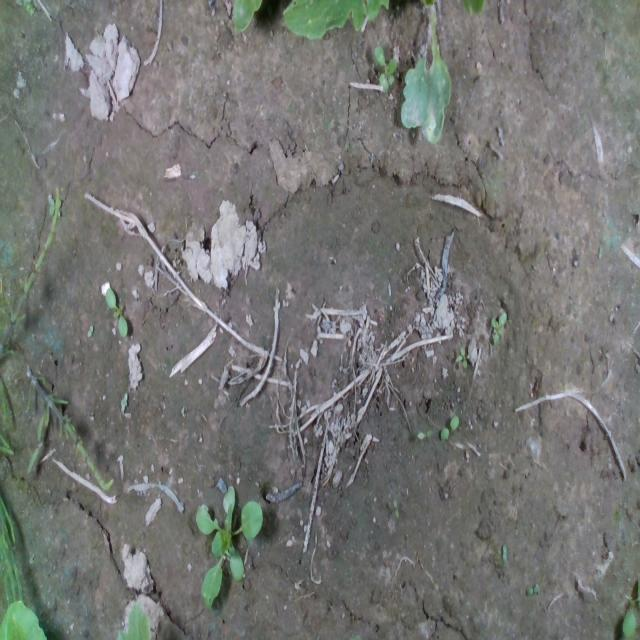weed: (104, 286, 128, 339), (372, 45, 396, 95), (439, 414, 459, 444), (491, 309, 507, 346), (453, 342, 469, 370), (416, 427, 432, 439)
